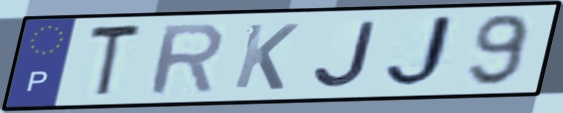9: (466, 12, 534, 89)
J: (381, 12, 466, 92), (309, 18, 381, 91)
K: (229, 21, 303, 92)
R: (146, 20, 226, 98)
T: (85, 21, 146, 101)
